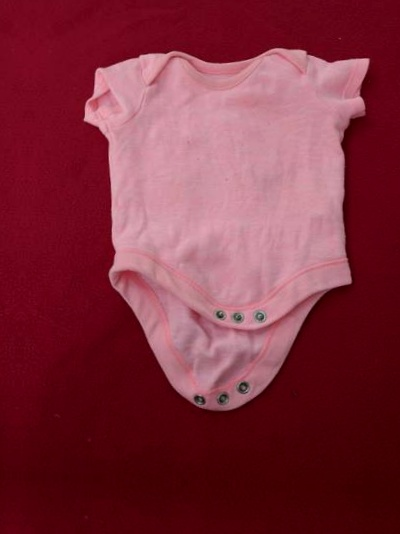Body: (64, 30, 387, 437), (44, 532, 367, 534)
